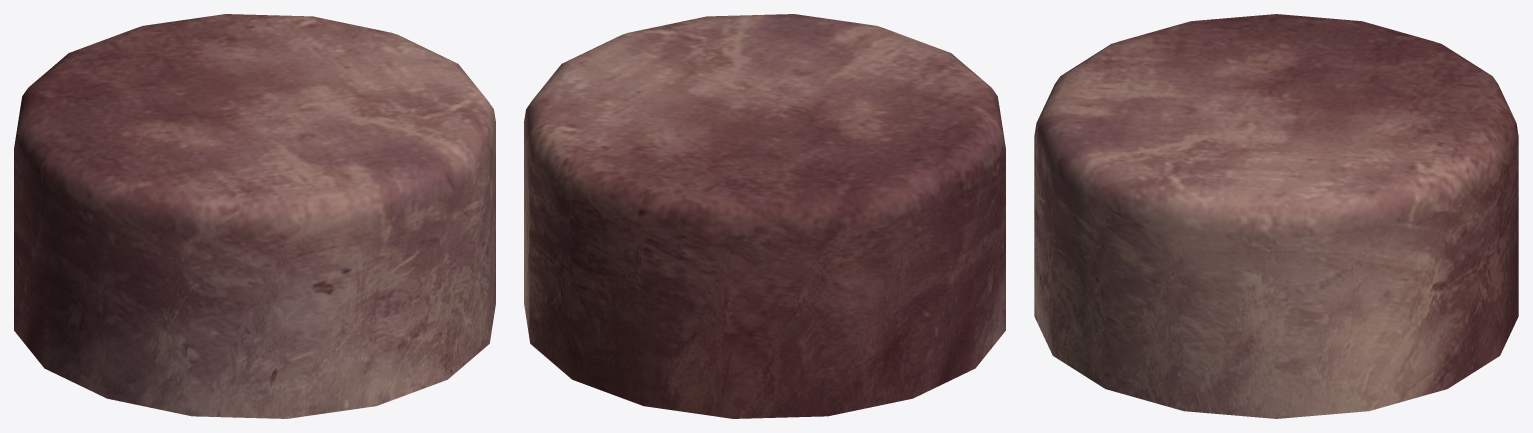
The model's file is button.FBX.
3 renders of one model, left to right at view 1: azimuth 30°, elevation 25°; view 2: azimuth 150°, elevation 25°; view 3: azimuth 270°, elevation 25°, orthographic.
Visible parts, largest first — view 1: scale; view 2: scale; view 3: scale.
Boxes of the visible parts, box(x1,y1,x2,y2) form: scale: box(14, 14, 495, 418); scale: box(524, 14, 1005, 418); scale: box(1034, 14, 1518, 418).
Size of the model in its own units: 72.84 by 34.85 by 72.84.
1 material, 1 textured.
